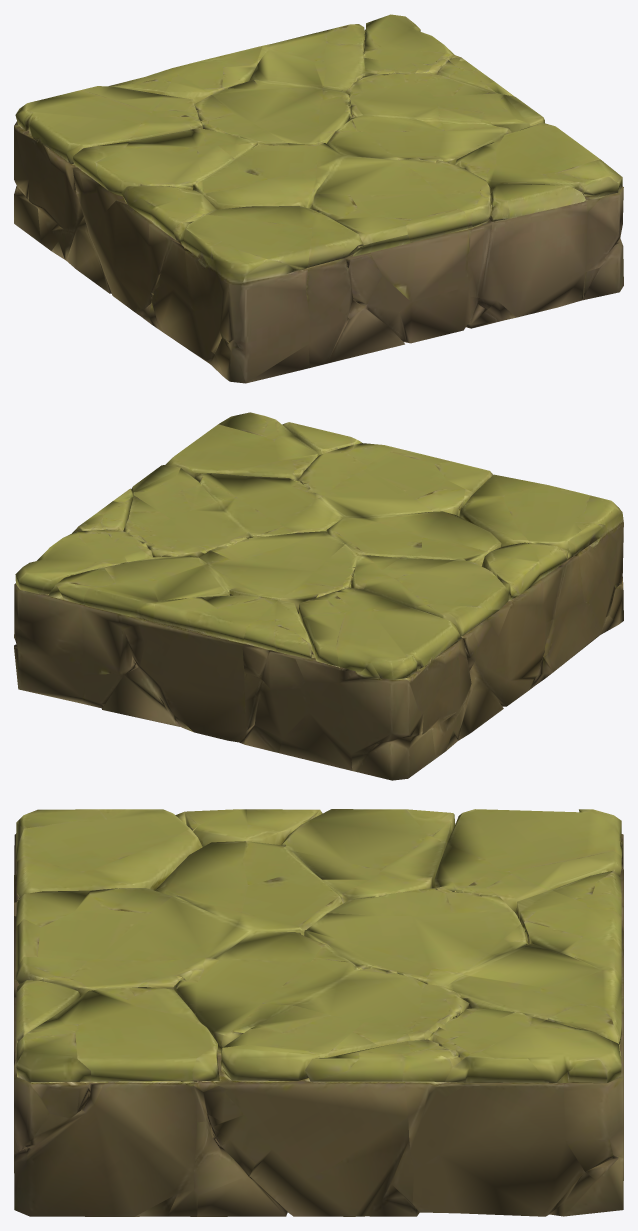
The model's file is flat.glb.
3 views of the same model, one above another, from view 1: azimuth 30°, elevation 25°; view 2: azimuth 150°, elevation 25°; view 3: azimuth 270°, elevation 25° (orthographic). The views are drawn at different scales.
Bounding box in the file's own units: 1.9 × 0.5411 × 1.9.
1 material, 1 textured.
